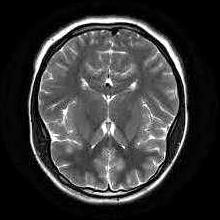Normal_Brain: (9, 1, 218, 217)
